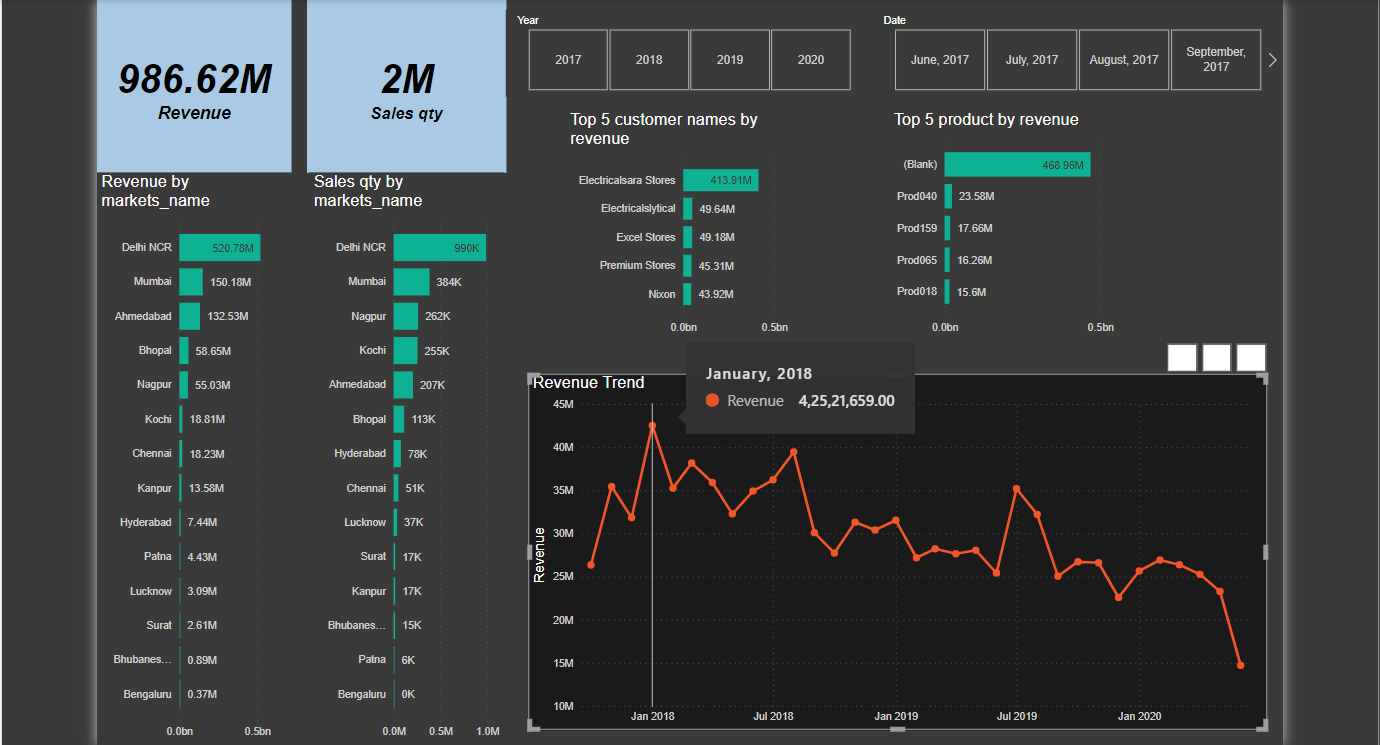

This screenshot's page, from the dashboard's own definition file:
{"tool":"powerbi","page":{"name":"Page 1","canvas":[1350,850],"ordinal":0},"visuals":[{"type":"card","fields":{"Values":["Base_Mesure.Revenue"]},"box":[0,0,221.4,196.8],"z":0},{"type":"card","fields":{"Values":["Base_Mesure.Sales qty"]},"box":[238.8,0,227.2,196.8],"z":1000},{"type":"barChart","fields":{"Category":["sales markets.markets_name"],"Y":["Base_Mesure.Revenue"]},"box":[0,196.8,221.4,652.7],"z":2000},{"type":"barChart","fields":{"Category":["sales markets.markets_name"],"Y":["Base_Mesure.Sales qty"]},"box":[241.7,196.8,221.4,652.7],"z":3000},{"type":"slicer","fields":{"Values":["sales date.year"]},"box":[466,11.6,416.8,98.4],"z":4000},{"type":"slicer","fields":{"Values":["sales date.cy_date"]},"box":[882.8,11.6,467.5,98.4],"z":5000},{"type":"barChart","title":"Top 5 customer names by revenue","fields":{"Category":["sales customers.custmer_name"],"Y":["Base_Mesure.Revenue"]},"box":[534,125.9,279.3,263.4],"z":6000},{"type":"barChart","title":"Top 5 product by revenue","fields":{"Category":["sales products.product_code"],"Y":["Base_Mesure.Revenue"]},"box":[903.1,125.9,296.7,263.4],"z":7000},{"type":"lineChart","title":"Revenue Trend","fields":{"Y":["Base_Mesure.Revenue"],"Category":["sales date.cy_date"]},"box":[471.8,425.5,861.1,315.5],"z":8000}]}

Visuals, with their boxes on the page's 1350x850 design canvas (x1, y1, x2, y2). These are canvas units, not pixel positions in the 1380x745 screenshot, which may show the page scaled, cropped or inside an application window:
card - Base_Mesure.Revenue: 0 0 221 197
card - Base_Mesure.Sales qty: 239 0 466 197
barChart - sales markets.markets_name x Base_Mesure.Revenue: 0 197 221 850
barChart - sales markets.markets_name x Base_Mesure.Sales qty: 242 197 463 850
slicer - sales date.year: 466 12 883 110
slicer - sales date.cy_date: 883 12 1350 110
"Top 5 customer names by revenue" barChart: 534 126 813 389
"Top 5 product by revenue" barChart: 903 126 1200 389
"Revenue Trend" lineChart: 472 426 1333 741
